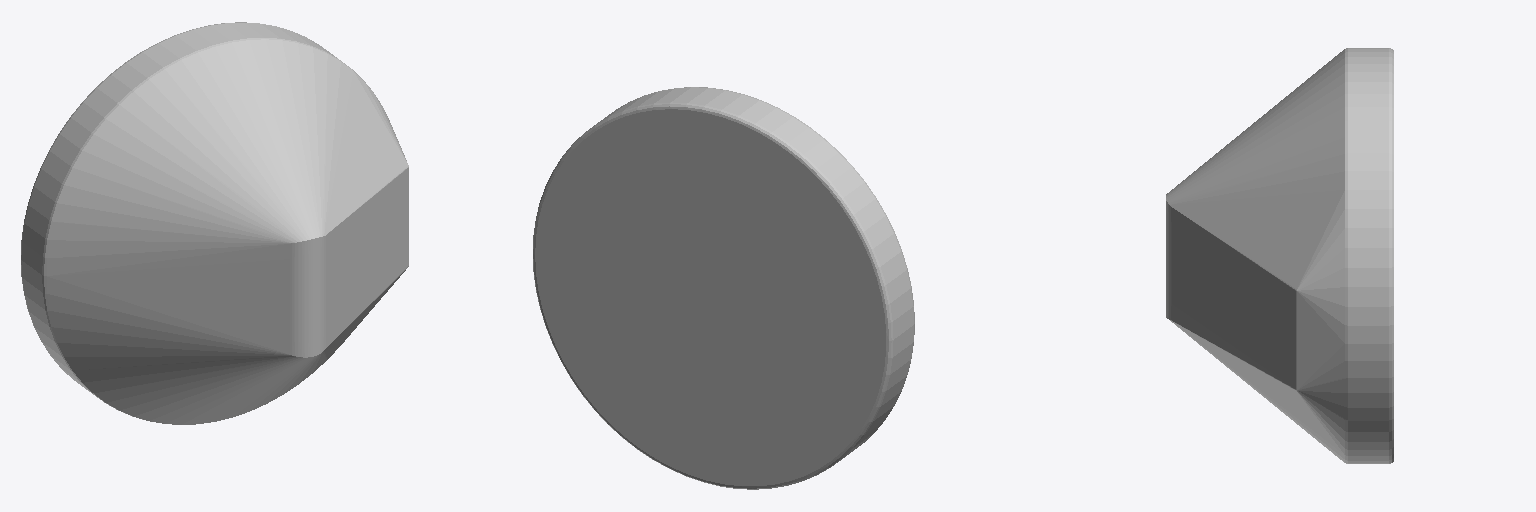
The model's file is cj_asm_half.obj.
3 renders of one model, left to right at view 1: azimuth 30°, elevation 25°; view 2: azimuth 150°, elevation 25°; view 3: azimuth 270°, elevation 25°, orthographic.
Size of the model in its own units: 0.08 by 0.0799 by 0.044.